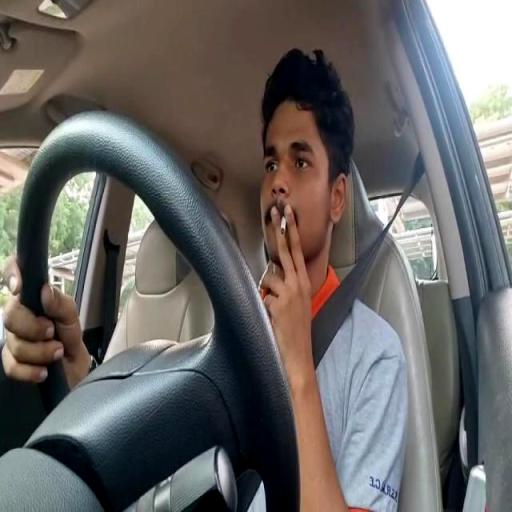Smoking: (260, 58, 346, 320)
